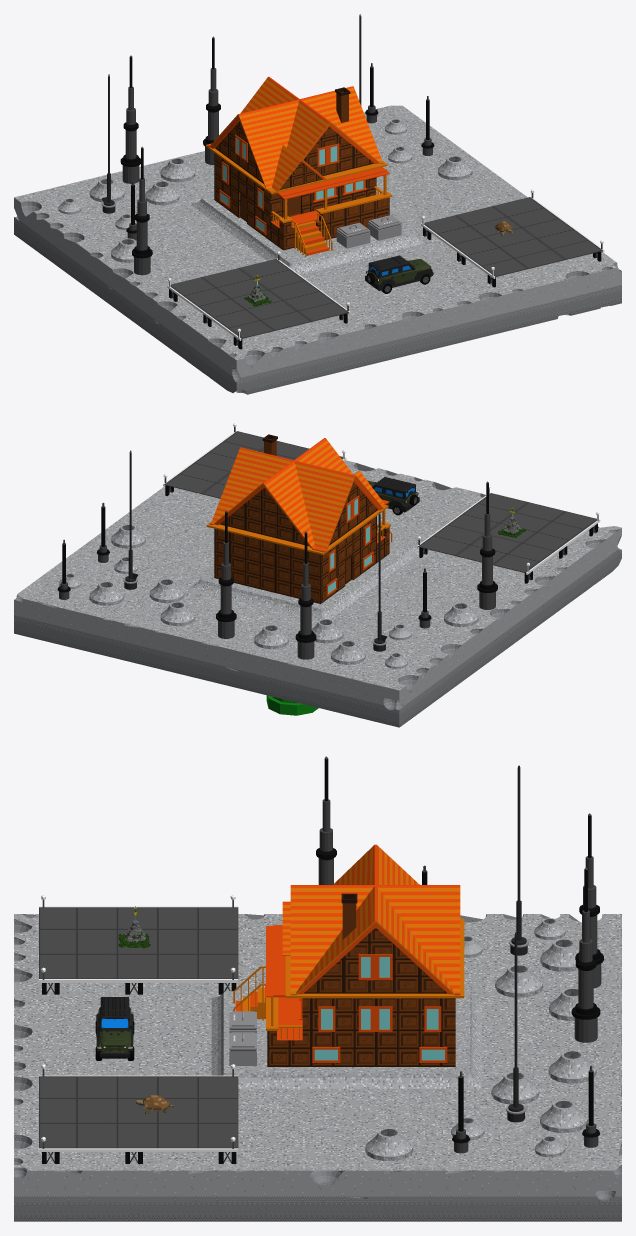
3 views of the same model, one above another, from view 1: azimuth 30°, elevation 25°; view 2: azimuth 150°, elevation 25°; view 3: azimuth 270°, elevation 25° (orthographic). The views are drawn at different scales.
Parts seen in each view (by area): view 1: Cube.027, Cube, Cube.026, Cube.025, Cube.028, VEHICLES_JEEP, Cylinder.020, Cylinder.021, Cylinder.017, Cube.029, Cube.030, Cylinder.027 (+3 smaller); view 2: Cube.027, Cube, Cube.025, Cube.028, Cube.026, Cylinder.020, Cylinder.021, Cylinder.017, VEHICLES_JEEP, Cylinder.031, Cylinder.028, Cylinder.029 (+8 smaller); view 3: Cube.027, Cube, Cube.026, Cube.025, Cube.028, Cylinder.017, VEHICLES_JEEP, Cylinder.020, Cylinder.021, Cylinder.033, Cylinder.031, Cylinder.029 (+9 smaller).
Part boxes in pixels (left/top/right/bottom): Cube.027: left=14, top=105, right=621, bottom=394; Cube: left=205, top=76, right=392, bottom=256; Cube.026: left=421, top=189, right=604, bottom=287; Cube.025: left=167, top=251, right=350, bottom=349; Cube.028: left=191, top=195, right=424, bottom=274; VEHICLES_JEEP: left=365, top=255, right=433, bottom=293; Cylinder.020: left=120, top=55, right=140, bottom=183; Cylinder.021: left=132, top=146, right=152, bottom=275; Cylinder.017: left=203, top=36, right=220, bottom=164; Cube.029: left=336, top=222, right=370, bottom=248; Cube.030: left=368, top=215, right=401, bottom=240; Cylinder.027: left=160, top=158, right=195, bottom=182; Cube.027: left=14, top=460, right=621, bottom=727; Cube: left=206, top=434, right=392, bottom=603; Cube.025: left=417, top=485, right=600, bottom=583; Cube.028: left=190, top=538, right=419, bottom=620; Cube.026: left=163, top=423, right=346, bottom=498; Cylinder.020: left=295, top=531, right=316, bottom=659; Cylinder.021: left=477, top=481, right=497, bottom=609; Cylinder.017: left=216, top=510, right=236, bottom=638; VEHICLES_JEEP: left=367, top=476, right=419, bottom=515; Cylinder.031: left=89, top=581, right=124, bottom=605; Cylinder.028: left=331, top=640, right=365, bottom=664; Cylinder.029: left=160, top=601, right=195, bottom=626; Cube.027: left=14, top=914, right=621, bottom=1221; Cube: left=233, top=844, right=464, bottom=1066; Cube.026: left=39, top=1064, right=238, bottom=1163; Cube.025: left=39, top=895, right=238, bottom=994; Cube.028: left=211, top=991, right=481, bottom=1088; Cylinder.017: left=571, top=867, right=600, bottom=1042; VEHICLES_JEEP: left=95, top=997, right=134, bottom=1060; Cylinder.020: left=575, top=813, right=603, bottom=988; Cylinder.021: left=316, top=756, right=336, bottom=884; Cylinder.033: left=365, top=1128, right=413, bottom=1160; Cylinder.031: left=540, top=1100, right=587, bottom=1132; Cylinder.029: left=548, top=1050, right=596, bottom=1083.
Bounding box in the file's own units: 4000 × 2383 × 4000.
Materials: 38 (5 with a texture image).
